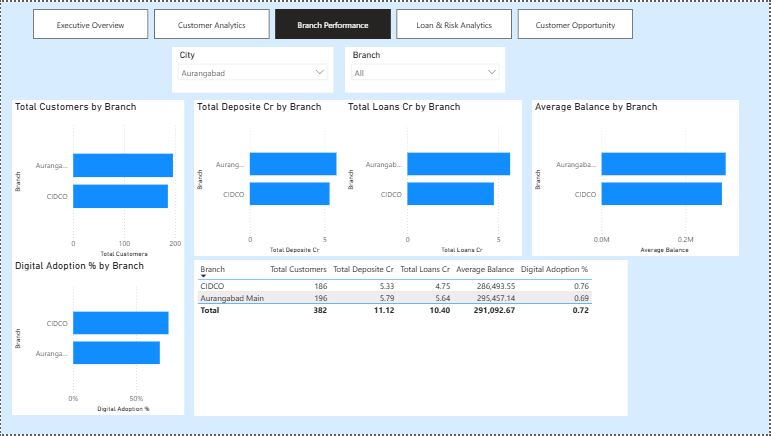

Layout of this report page (visuals, bound fields, positions):
{"tool":"powerbi","page":{"name":"Branch Performance","canvas":[1280,720],"ordinal":2},"visuals":[{"type":"clusteredBarChart","fields":{"Category":["Customers.Branch"],"Y":["Customers.Total Customers"]},"box":[18.3,163.3,286.7,266.7],"z":0},{"type":"clusteredBarChart","fields":{"Category":["Customers.Branch"],"Y":["Customers.Total Deposite Cr"]},"box":[321.7,163.3,251.7,260],"z":1000},{"type":"clusteredBarChart","fields":{"Category":["Customers.Branch"],"Y":["Customers.Total Loans Cr"]},"box":[573.3,163.3,295,260],"z":2000},{"type":"clusteredBarChart","fields":{"Category":["Customers.Branch"],"Y":["Customers.Average Balance"]},"box":[885,163.3,345,260],"z":3000},{"type":"clusteredBarChart","fields":{"Category":["Customers.Branch"],"Y":["Customers.Digital Adoption %"]},"box":[18.3,428.3,286.7,260],"z":4000},{"type":"tableEx","fields":{"Values":["Customers.Branch","Customers.Total Customers","Customers.Total Deposite Cr","Customers.Total Loans Cr","Customers.Average Balance","Customers.Digital Adoption %"]},"box":[321.7,430,723.3,260],"z":5000},{"type":"slicer","fields":{"Values":["Customers.City"]},"box":[285,75,269,75.6],"z":6000},{"type":"slicer","fields":{"Values":["Customers.Branch"]},"box":[573.3,75,267.5,75.6],"z":7000},{"type":"pageNavigator","box":[53.3,11.7,1000,50],"z":7001}]}

Visuals, with their boxes in screenshot pixels (x1, y1, x2, y2), scaled from the page's 1280x720 canvas onto the 771x436 screenshot:
clusteredBarChart - Customers.Branch x Customers.Total Customers: BBox(11, 99, 184, 260)
clusteredBarChart - Customers.Branch x Customers.Total Deposite Cr: BBox(194, 99, 345, 256)
clusteredBarChart - Customers.Branch x Customers.Total Loans Cr: BBox(345, 99, 523, 256)
clusteredBarChart - Customers.Branch x Customers.Average Balance: BBox(533, 99, 741, 256)
clusteredBarChart - Customers.Branch x Customers.Digital Adoption %: BBox(11, 259, 184, 417)
tableEx - Customers.Branch x Customers.Total Customers: BBox(194, 260, 629, 418)
slicer - Customers.City: BBox(172, 45, 334, 91)
slicer - Customers.Branch: BBox(345, 45, 506, 91)
pageNavigator: BBox(32, 7, 634, 37)
